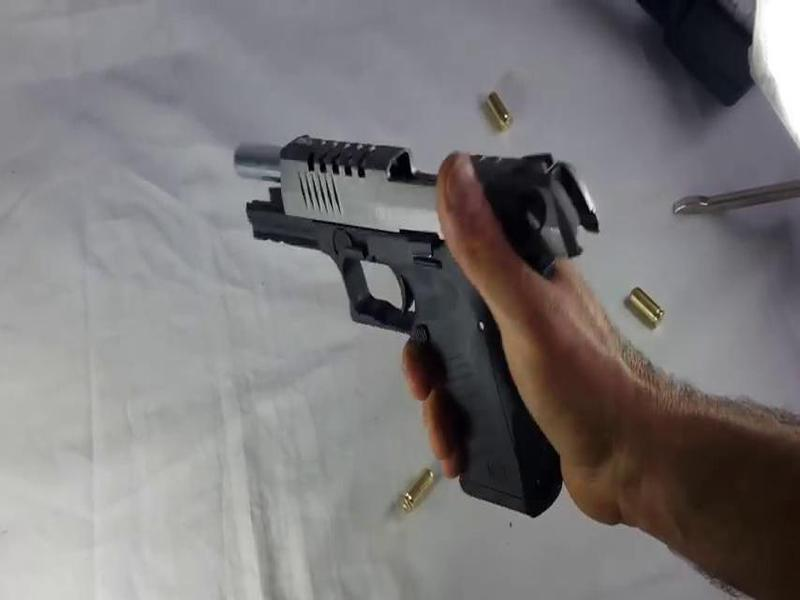Pistola: (213, 111, 630, 527)
